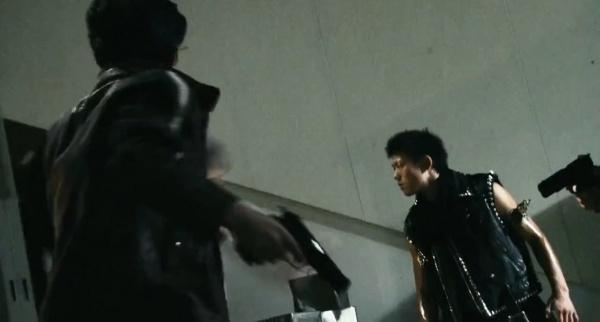Gun: (256, 204, 352, 296), (537, 153, 600, 207)
